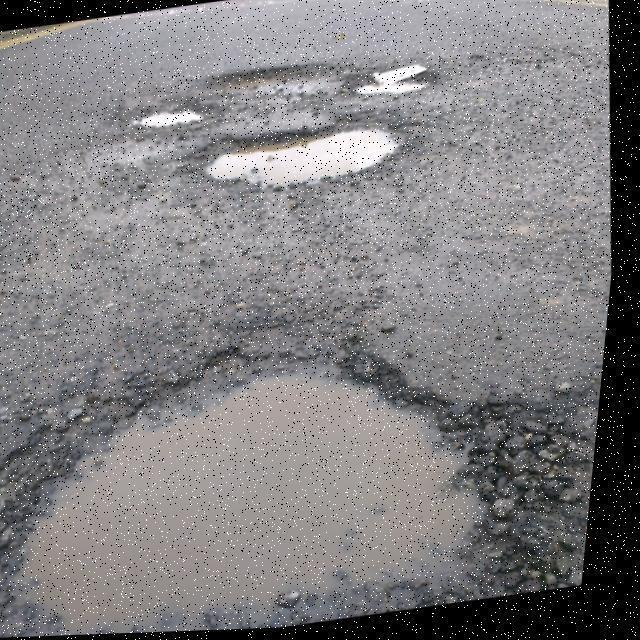Pothole: (0, 331, 588, 638), (182, 110, 412, 192), (199, 60, 342, 102), (343, 52, 437, 102), (120, 98, 212, 132)
